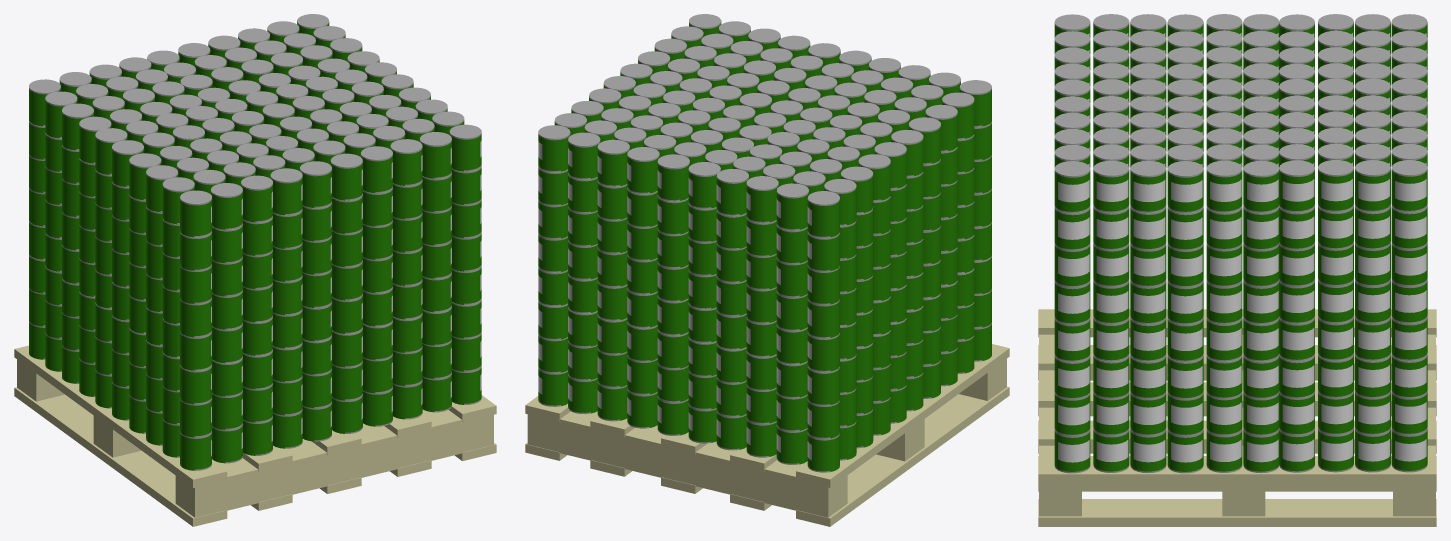
File: Green Can Skid.fbx
3 renders of one model, left to right at view 1: azimuth 30°, elevation 25°; view 2: azimuth 150°, elevation 25°; view 3: azimuth 270°, elevation 25°, orthographic. The views are drawn at different scales.
Parts seen in each view (by area): view 1: palette_full2; view 2: palette_full2; view 3: palette_full2.
Part boxes in pixels (x1,y1,x2,y2): palette_full2: (14,14,496,526); palette_full2: (525,14,1009,526); palette_full2: (1038,14,1436,526).
Bounding box in the file's own units: 1.05 × 1.04 × 1.07.
